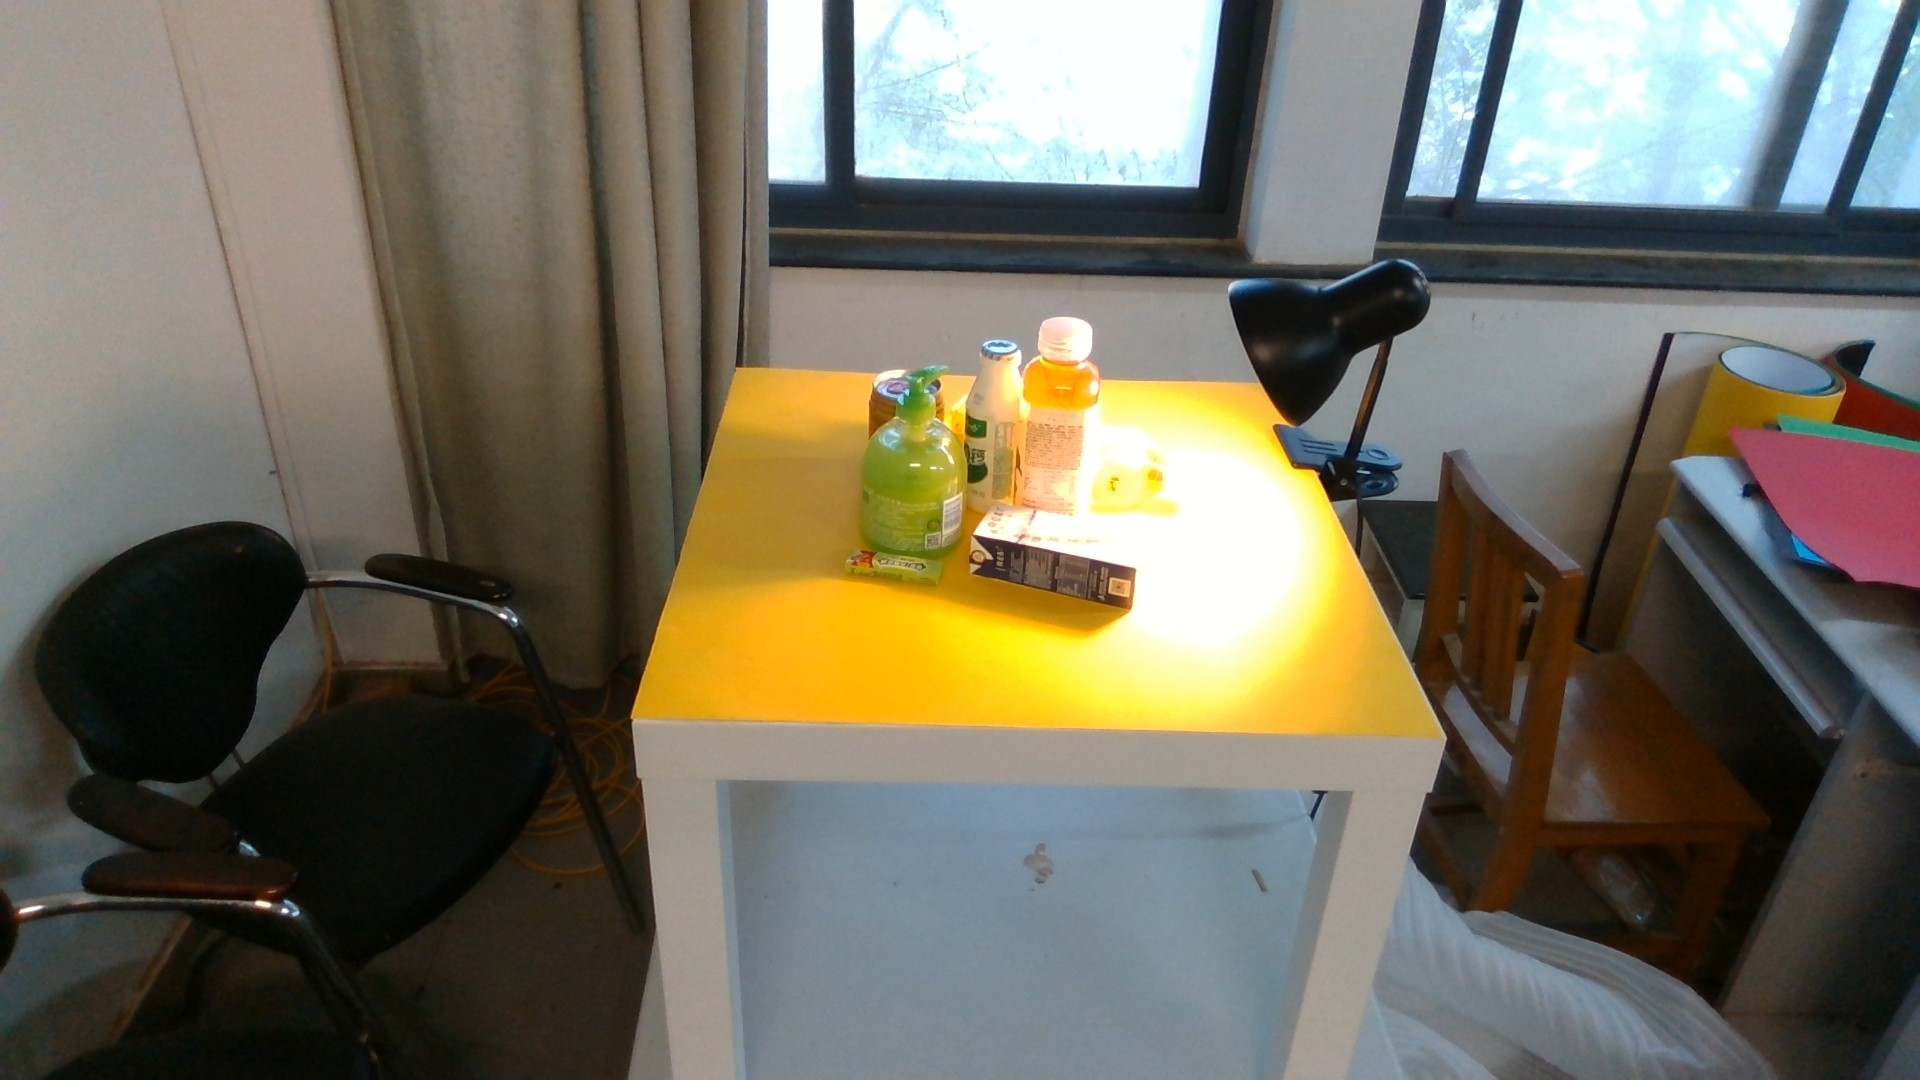BB002: (847, 550, 943, 585)
BB010: (976, 502, 1150, 607)
ZA002: (861, 417, 968, 556)
ZC004: (872, 371, 901, 419)
ZC005: (963, 338, 1023, 502)
ZC011: (1100, 425, 1168, 506)
ZC012: (1019, 314, 1100, 498)
